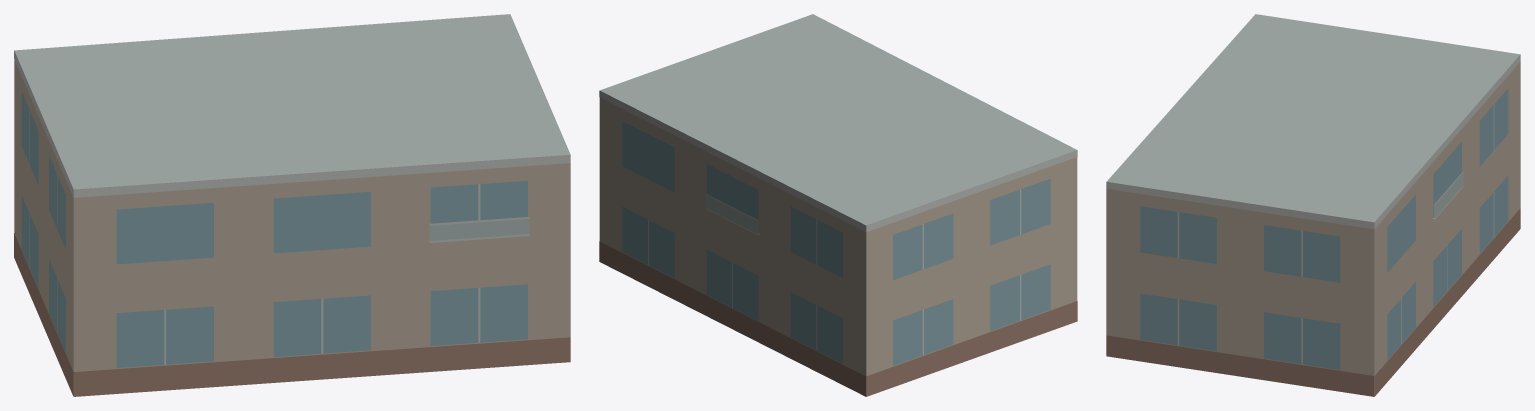
The model's file is survey-upis-33014997.glb.
3 renders of one model, left to right at view 1: azimuth 30°, elevation 25°; view 2: azimuth 150°, elevation 25°; view 3: azimuth 270°, elevation 25°, orthographic. The views are drawn at different scales.
Parts seen in each view (by area): view 1: survey-upis-33014997.tmp; view 2: survey-upis-33014997.tmp; view 3: survey-upis-33014997.tmp.
Part boxes in pixels (x1=…): survey-upis-33014997.tmp: x1=14, y1=14, x2=570, y2=396; survey-upis-33014997.tmp: x1=599, y1=14, x2=1077, y2=396; survey-upis-33014997.tmp: x1=1106, y1=14, x2=1520, y2=396.
Size of the model in its own units: 15.63 by 6.1 by 13.13.
